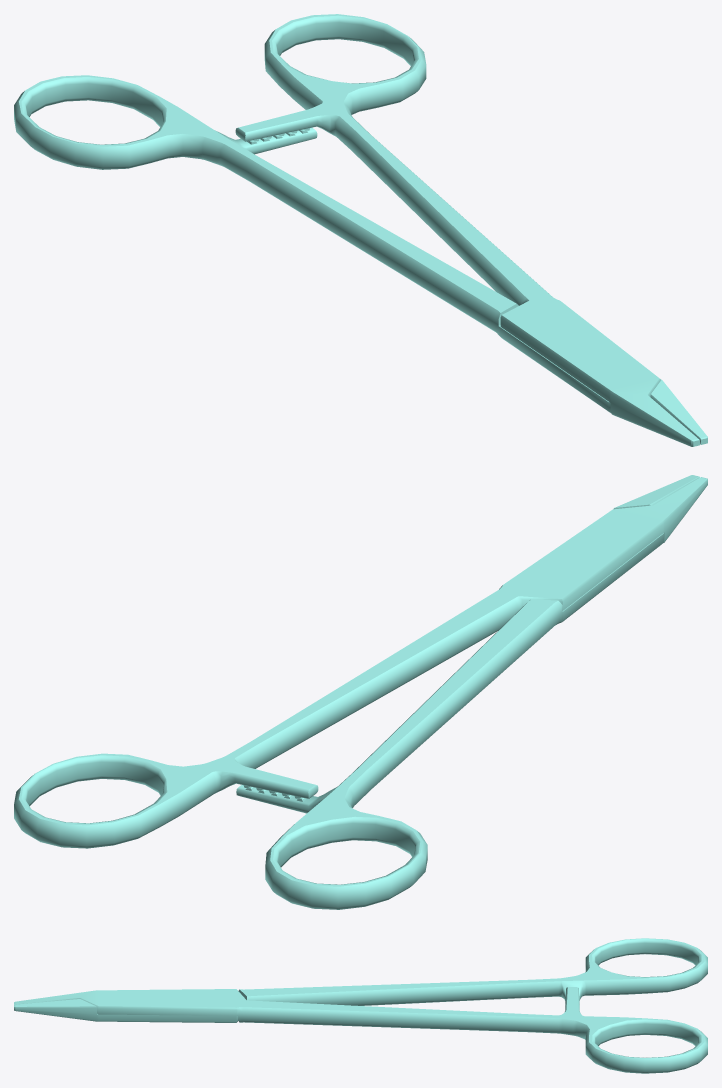
File: Needle_forceps.fbx
3 renders of one model, top to bottom at view 1: azimuth 30°, elevation 25°; view 2: azimuth 150°, elevation 25°; view 3: azimuth 270°, elevation 25°, orthographic. The views are drawn at different scales.
Visible parts, largest first — view 1: needle_forceps; view 2: needle_forceps; view 3: needle_forceps.
Part boxes in pixels (x1,y1,x2,y2): needle_forceps: (14, 14, 707, 446); needle_forceps: (14, 475, 707, 909); needle_forceps: (14, 938, 707, 1073).
Size of the model in its own units: 0.0992 by 0.00574 by 0.2366.
